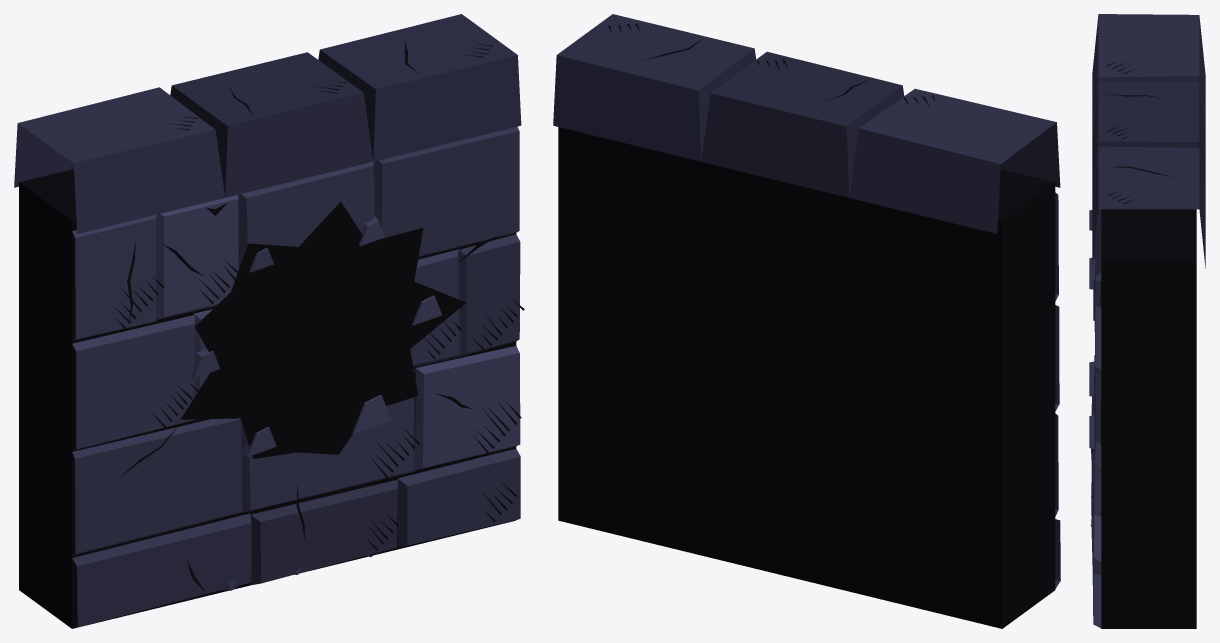
The model's file is wall_broken.glb.
3 renders of one model, left to right at view 1: azimuth 30°, elevation 25°; view 2: azimuth 150°, elevation 25°; view 3: azimuth 270°, elevation 25°, orthographic. The views are drawn at different scales.
Parts seen in each view (by area): view 1: wall_broken.001; view 2: wall_broken.001; view 3: wall_broken.001.
Part boxes in pixels (x1=…): wall_broken.001: x1=14, y1=14, x2=524, y2=628; wall_broken.001: x1=553, y1=14, x2=1060, y2=628; wall_broken.001: x1=1089, y1=14, x2=1205, y2=628.
Bounding box in the file's own units: 4 × 4 × 1.
